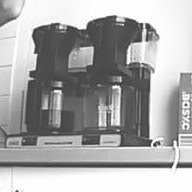not empty coffee: (22, 77, 78, 136)
